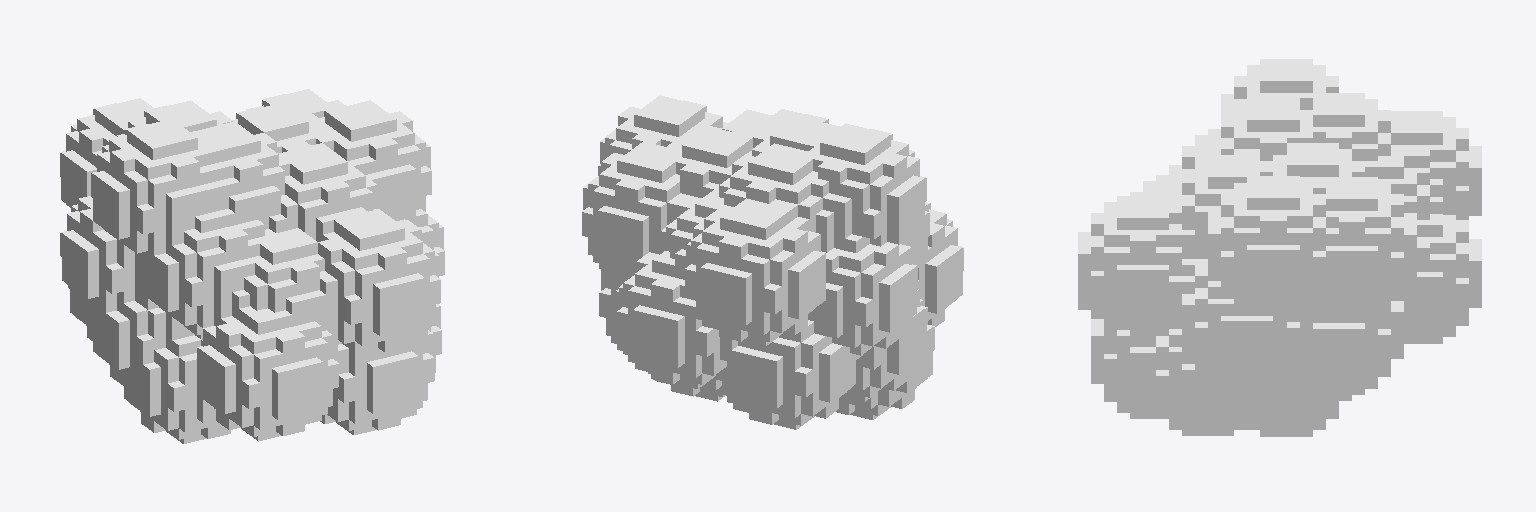
The model's file is MedRock.obj.
3 views of the same model, side by side, from view 1: azimuth 30°, elevation 25°; view 2: azimuth 150°, elevation 25°; view 3: azimuth 270°, elevation 25° (orthographic).
Parts seen in each view (by area): view 1: MedRock; view 2: MedRock; view 3: MedRock.
Boxes of the visible parts, <box> form: MedRock: <box>60,89,444,443</box>; MedRock: <box>582,95,963,429</box>; MedRock: <box>1078,59,1481,436</box>.
Size of the model in its own units: 28 by 24 by 31.